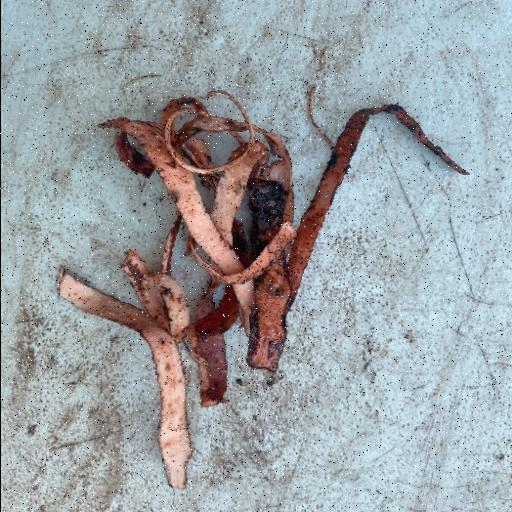Waste: (54, 85, 470, 491)
